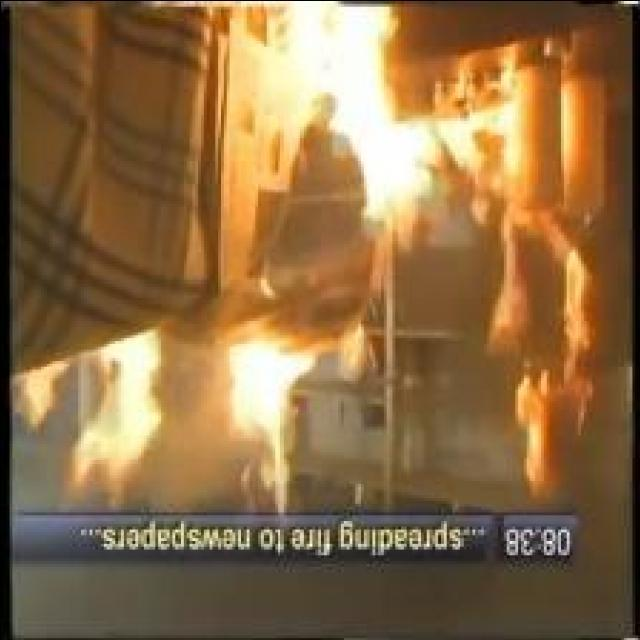Fire: (287, 10, 516, 250), (68, 328, 163, 512), (226, 338, 314, 516), (12, 361, 64, 428)
